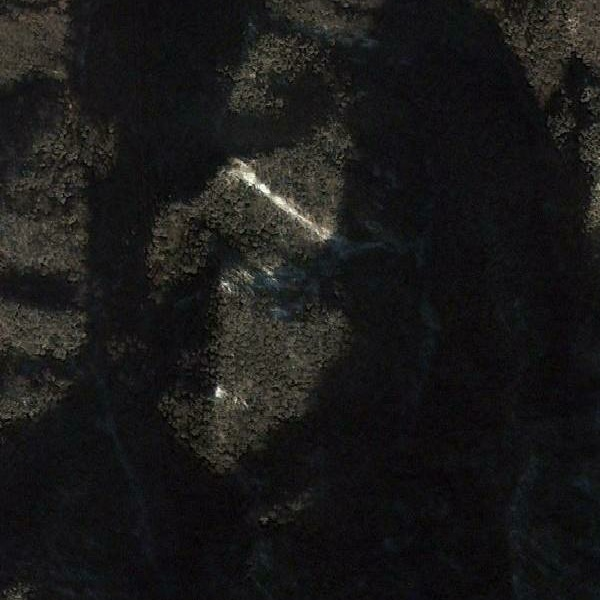slope: (220, 156, 333, 249)
